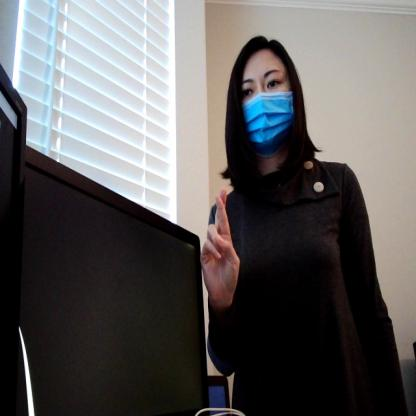right: (198, 187, 244, 304)
